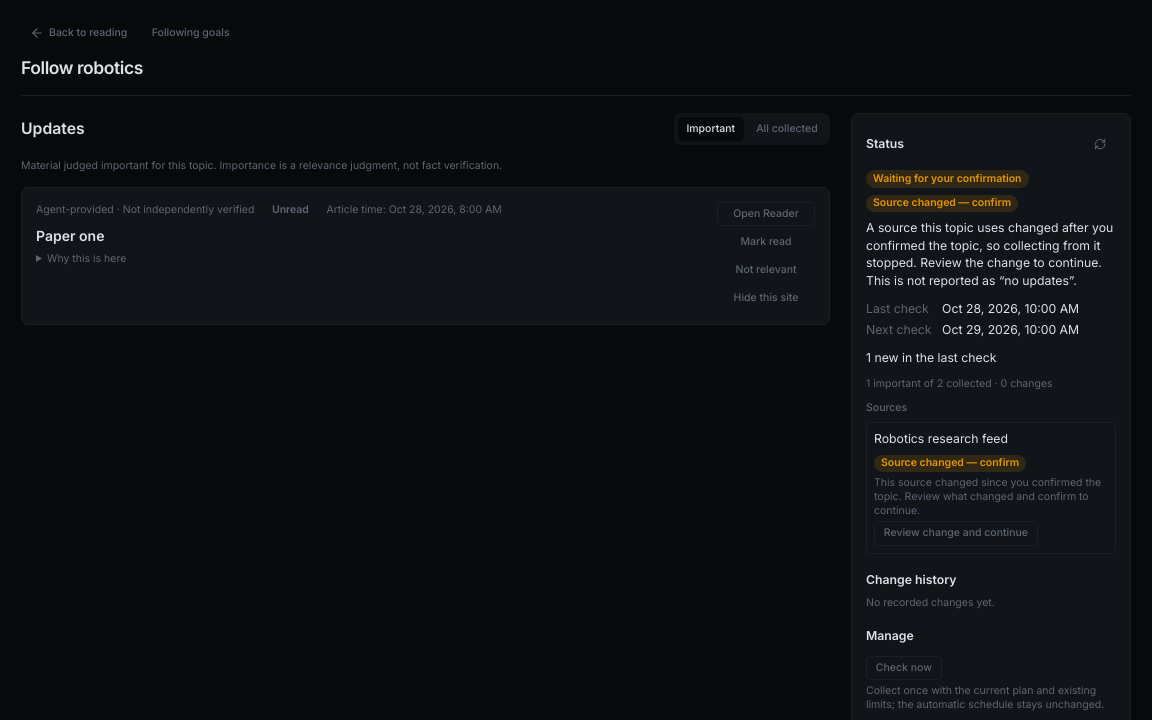
Test: keeps the dialog open on a refused confirmation and shows the current state again after a change (409)
Click the button "Review change and continue" at [956, 533], box top-left (874, 521), bottom-right (1038, 546)
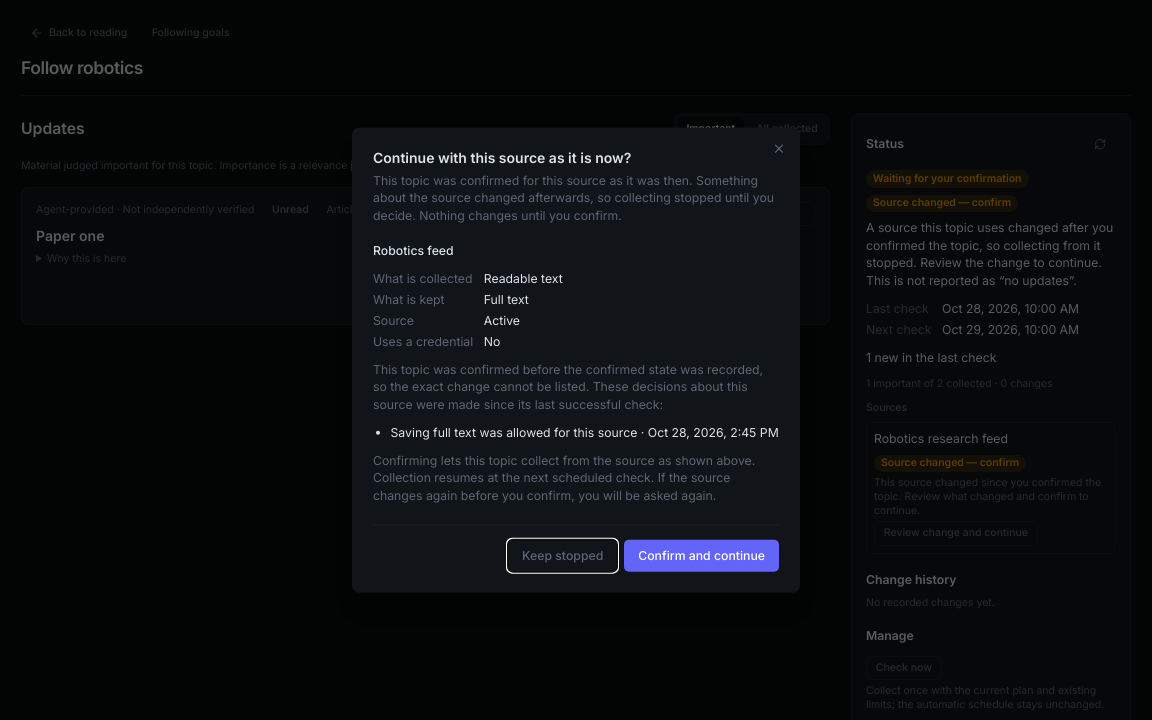
Check: the text "Robotics feed" is shown, box top-left (373, 242), bottom-right (454, 257)
Click the button "Confirm and continue" at [702, 556], box top-left (624, 540), bottom-right (779, 571)
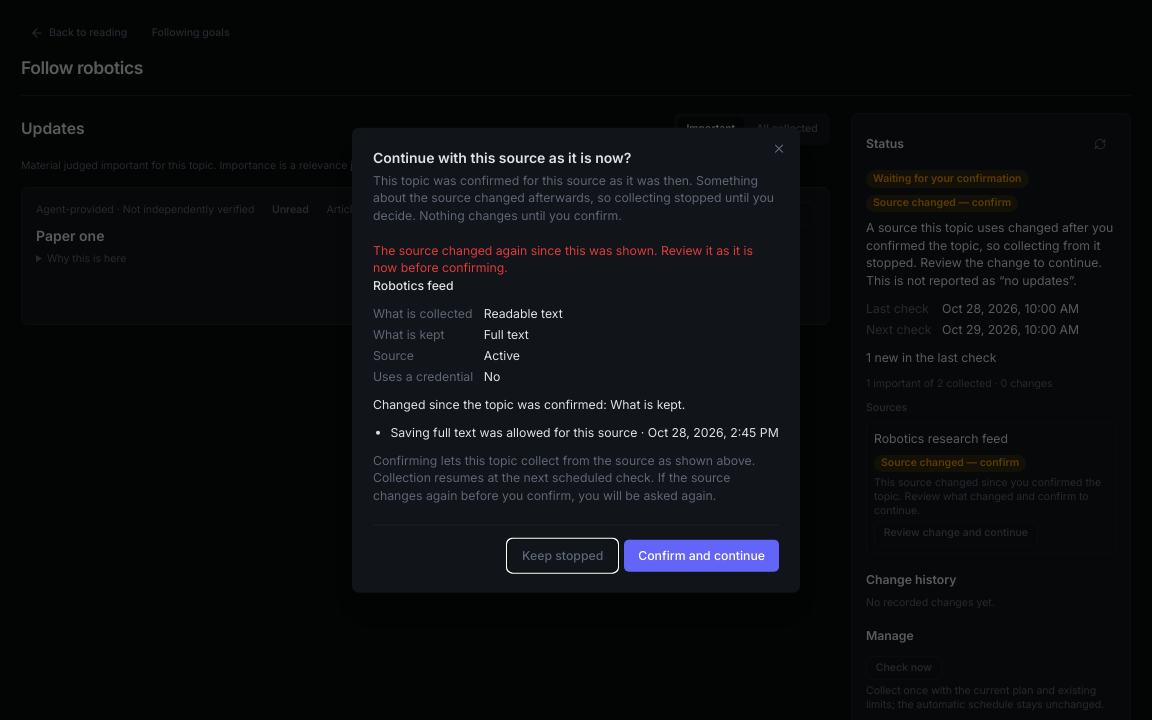
Check: the dialog is shown, box top-left (352, 128), bottom-right (800, 592)
Check: the message shows "The source changed again since this was shown.", box top-left (373, 242), bottom-right (753, 275)
Check: the text "Changed since the topic was confirmed: What is kept." is shown, box top-left (373, 396), bottom-right (685, 411)
